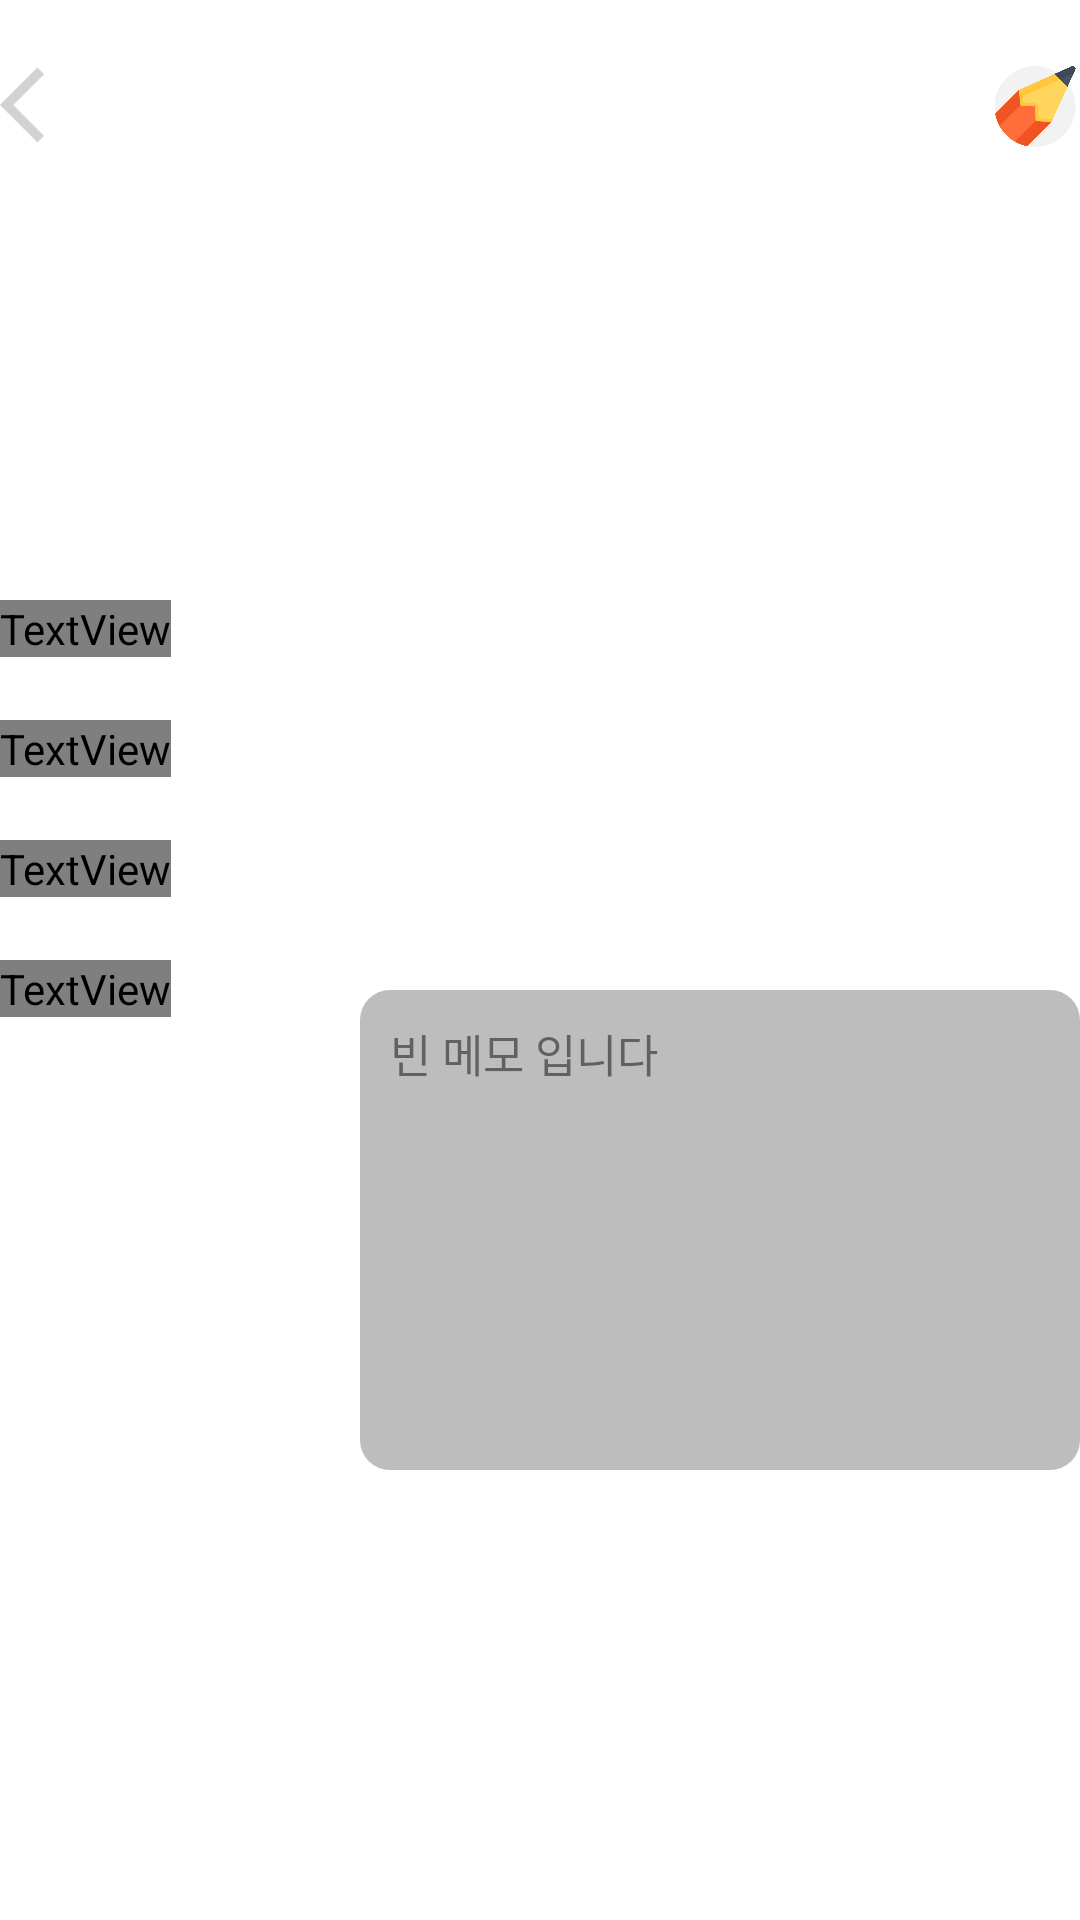

Icons on this 1080px×1920px Android screen, each with its box as bbox(x1, y1, x2, y2):
arrow back: bbox(0, 68, 44, 142)
pencil: bbox(995, 66, 1076, 147)
